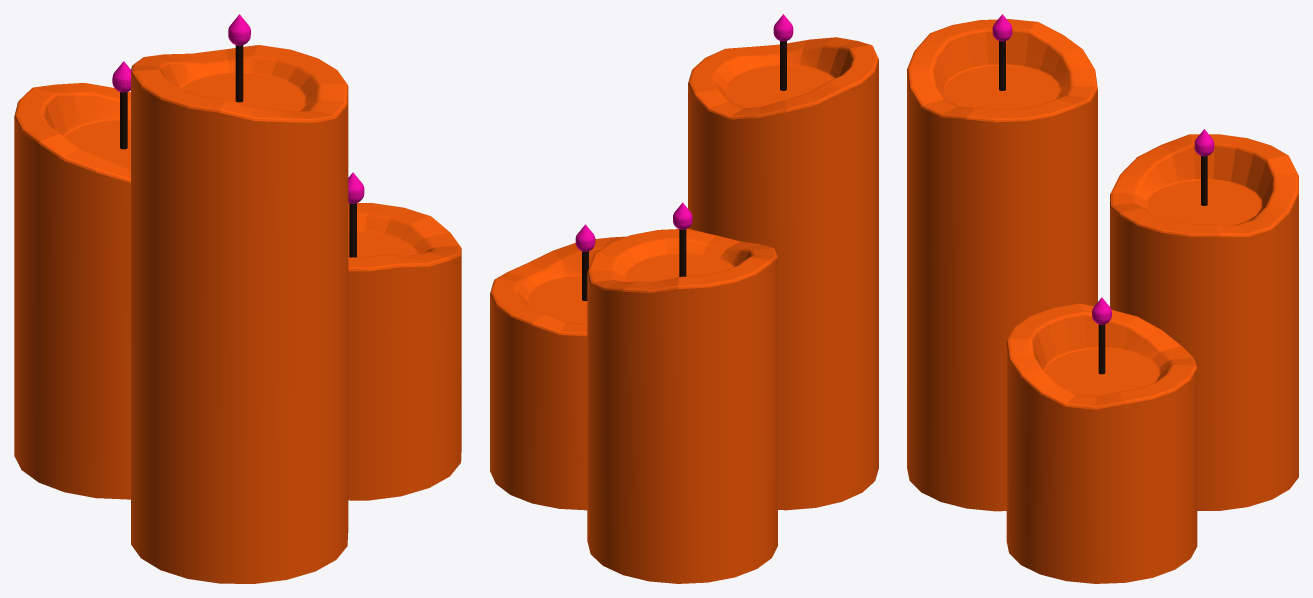
File: sm_candles.fbx
The picture shows the model from 3 angles, left to right: view 1: azimuth 30°, elevation 25°; view 2: azimuth 150°, elevation 25°; view 3: azimuth 270°, elevation 25°; orthographic projection. The views are drawn at different scales.
Parts seen in each view (by area): view 1: candles_low (×3); view 2: candles_low (×3); view 3: candles_low (×3).
Boxes of the visible parts, x1,y1,x2,y2 form: candles_low (×3): (14,14,461,583); candles_low (×3): (490,14,878,583); candles_low (×3): (907,14,1298,583).
Size of the model in its own units: 8.27 by 11.51 by 8.94.
